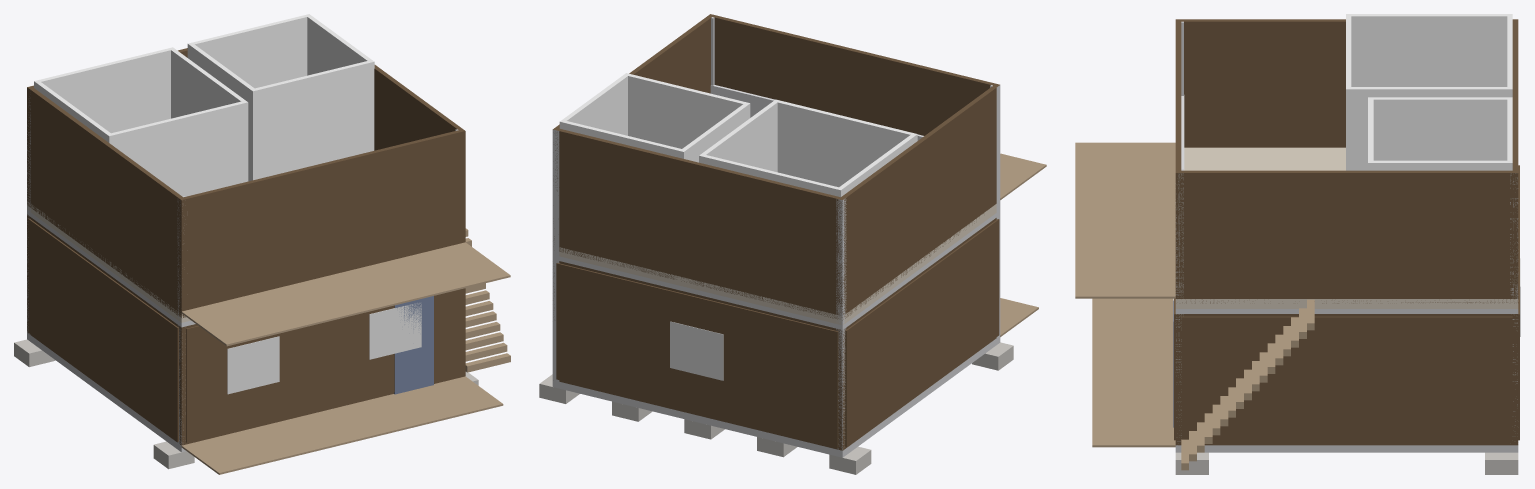
File: Duplex-20-Base-WengeWood-LOD1.glb
3 renders of one model, left to right at view 1: azimuth 30°, elevation 25°; view 2: azimuth 150°, elevation 25°; view 3: azimuth 270°, elevation 25°, orthographic. The views are drawn at different scales.
Visible parts, largest first — view 1: ExteriorShellUpper, ExteriorPanelsStandard, StudyUpper, BedroomUpper, BalconyUpper, BalconyGround, WindowsStandard, StaircaseExternal, EntryDoor, ExteriorShell, FoundationBlocks, BaseFrame (+3 smaller); view 2: ExteriorShellUpper, ExteriorPanelsStandard, BedroomUpper, StudyUpper, VerticalStructure, FloorUpper, FoundationBlocks, BaseFrame, ExteriorShell, WindowsStandard, TopFrame, BalconyUpper (+2 smaller); view 3: ExteriorShellUpper, ExteriorPanelsStandard, BalconyUpper, BedroomUpper, BalconyGround, StudyUpper, FloorUpper, StaircaseExternal, ExteriorShell, BaseFrame, TopFrame, FoundationBlocks (+1 smaller).
Boxes of the visible parts, bbox=[...] form: ExteriorShellUpper: bbox=[27, 48, 465, 317]; ExteriorPanelsStandard: bbox=[28, 218, 461, 442]; StudyUpper: bbox=[187, 14, 374, 181]; BedroomUpper: bbox=[34, 47, 248, 196]; BalconyUpper: bbox=[181, 242, 510, 346]; BalconyGround: bbox=[181, 376, 503, 474]; WindowsStandard: bbox=[227, 303, 421, 394]; StaircaseExternal: bbox=[465, 228, 510, 372]; EntryDoor: bbox=[394, 296, 433, 394]; ExteriorShell: bbox=[27, 214, 465, 445]; FoundationBlocks: bbox=[14, 339, 478, 469]; BaseFrame: bbox=[27, 333, 186, 452]; ExteriorShellUpper: bbox=[553, 14, 999, 320]; ExteriorPanelsStandard: bbox=[556, 219, 999, 447]; BedroomUpper: bbox=[699, 99, 917, 197]; StudyUpper: bbox=[559, 73, 750, 162]; VerticalStructure: bbox=[552, 17, 1000, 449]; FloorUpper: bbox=[553, 204, 996, 325]; FoundationBlocks: bbox=[539, 342, 1013, 474]; BaseFrame: bbox=[552, 336, 1000, 457]; ExteriorShell: bbox=[553, 218, 996, 450]; WindowsStandard: bbox=[670, 321, 723, 380]; TopFrame: bbox=[559, 213, 996, 329]; BalconyUpper: bbox=[1000, 153, 1046, 199]; ExteriorShellUpper: bbox=[1175, 19, 1518, 303]; ExteriorPanelsStandard: bbox=[1174, 165, 1519, 443]; BalconyUpper: bbox=[1075, 142, 1175, 298]; BedroomUpper: bbox=[1346, 14, 1512, 170]; BalconyGround: bbox=[1092, 298, 1175, 447]; StudyUpper: bbox=[1368, 97, 1512, 170]; FloorUpper: bbox=[1175, 147, 1518, 308]; StaircaseExternal: bbox=[1181, 299, 1314, 470]; ExteriorShell: bbox=[1175, 314, 1518, 445]; BaseFrame: bbox=[1175, 445, 1518, 452]; TopFrame: bbox=[1175, 309, 1518, 313]; FoundationBlocks: bbox=[1175, 452, 1518, 474].
Size of the model in its own units: 7.94 by 6 by 8.
